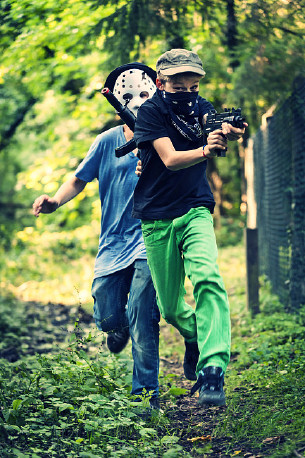face_mask: (166, 79, 202, 114)
